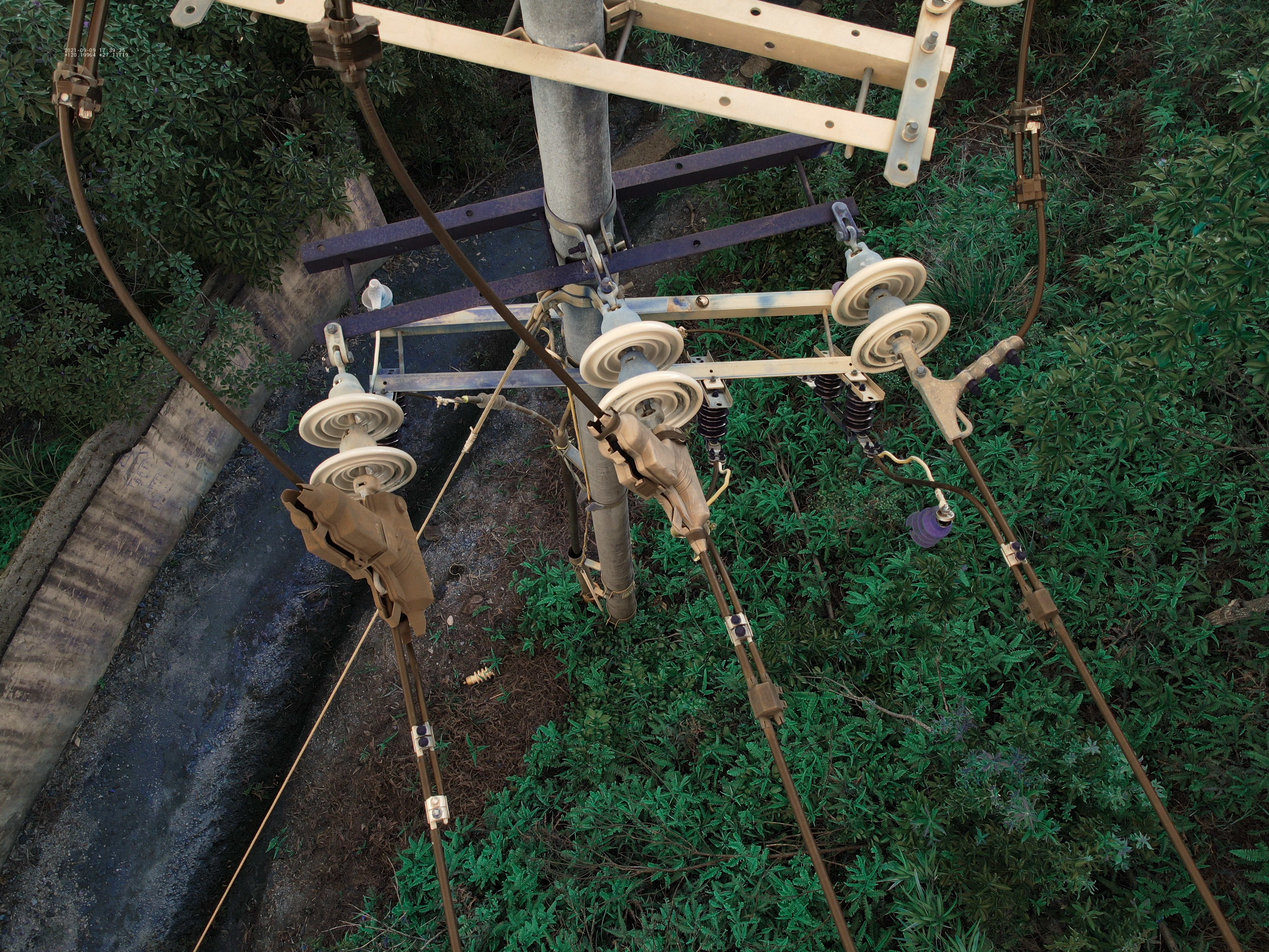severe_soiling_no_discharge_whole: (574, 297, 708, 447), (827, 240, 953, 380), (296, 369, 423, 505)
